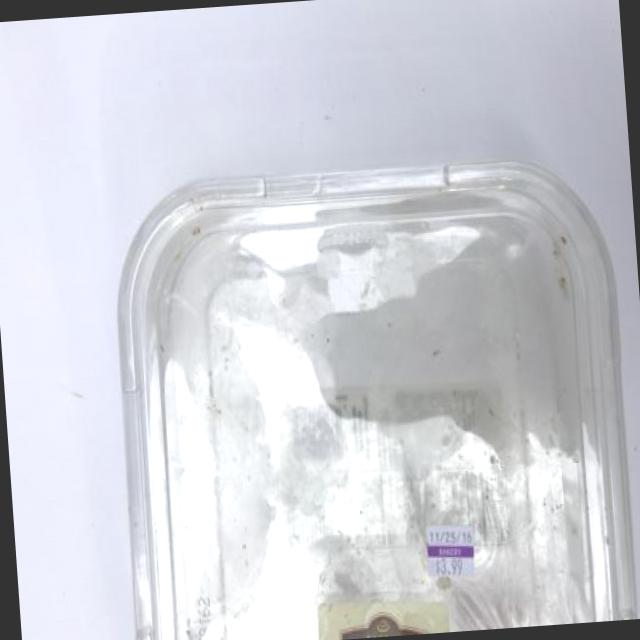Trash: (98, 146, 640, 640)
